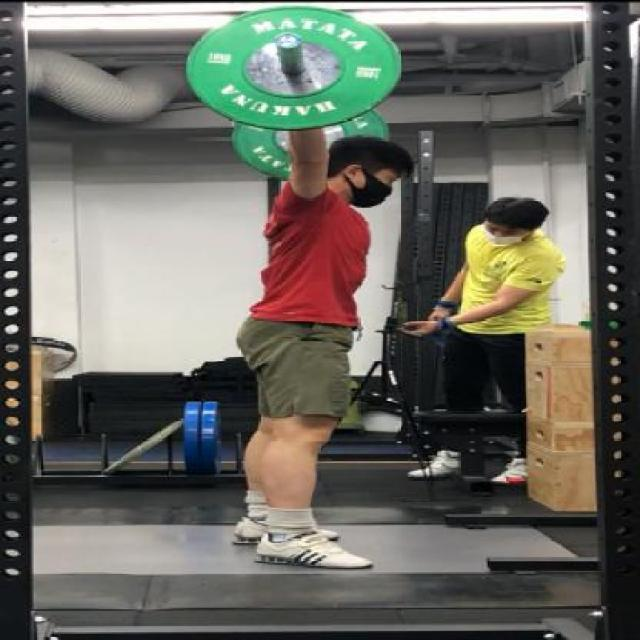Barbell: (266, 31, 306, 51)
